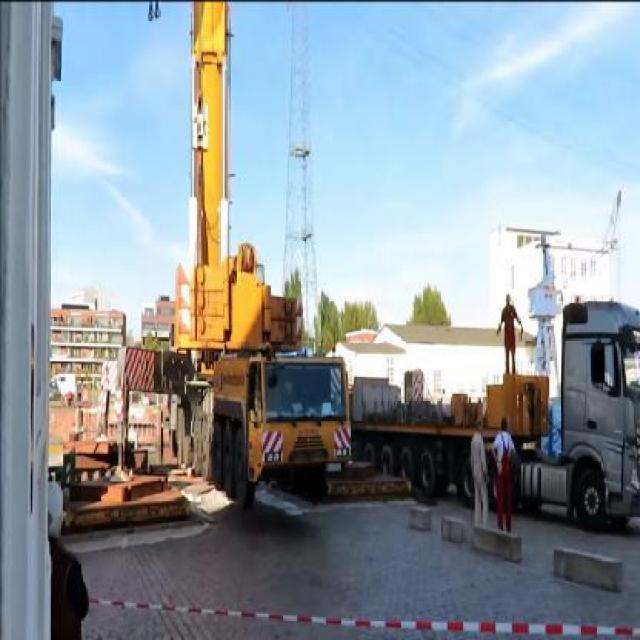Mobile Crane: (115, 0, 352, 508)
